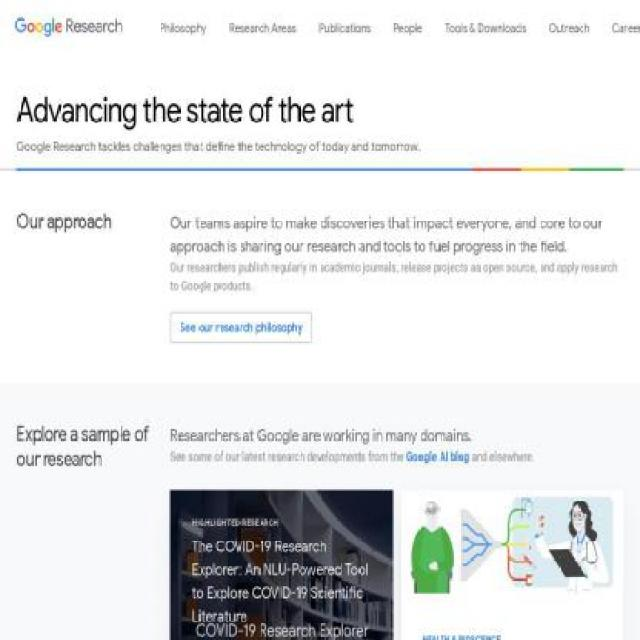button: (169, 488, 394, 640), (400, 488, 625, 640), (170, 311, 312, 343), (445, 2, 526, 55), (229, 2, 296, 55), (318, 2, 371, 55), (159, 2, 207, 55), (548, 2, 589, 55), (393, 2, 422, 55), (612, 2, 639, 55)
